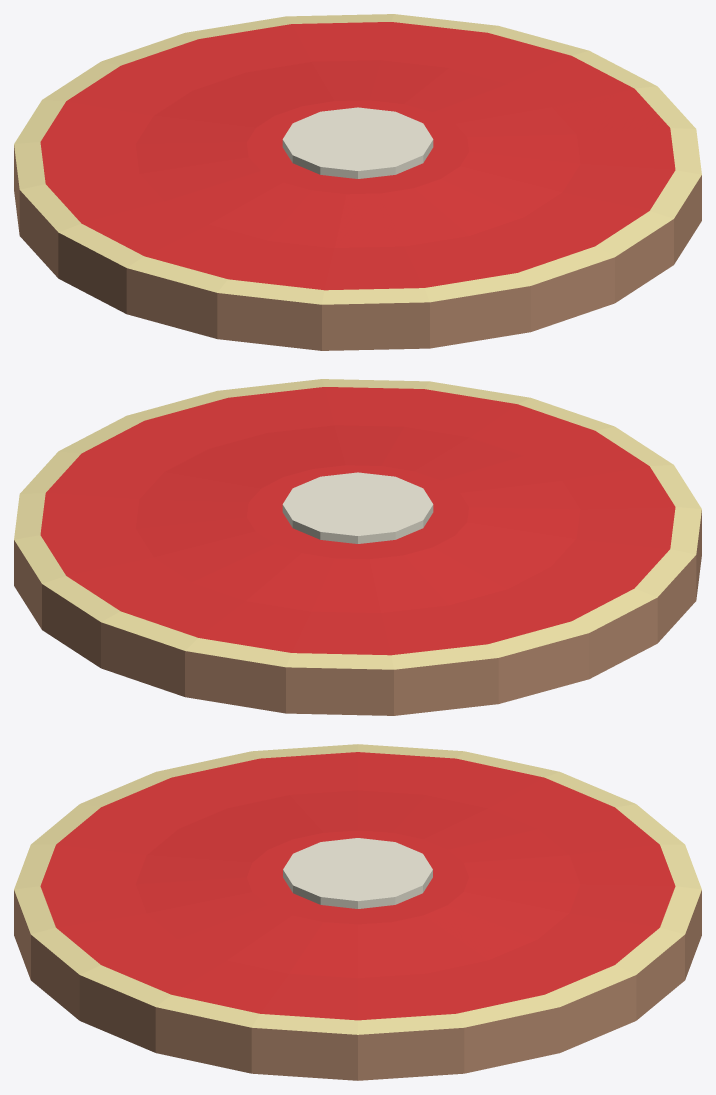
The model's file is cap_hip.glb.
3 renders of one model, top to bottom at view 1: azimuth 30°, elevation 25°; view 2: azimuth 150°, elevation 25°; view 3: azimuth 270°, elevation 25°, orthographic.
Visible parts, largest first — view 1: OUT; view 2: OUT; view 3: OUT.
Part boxes in pixels (x1,y1,x2,y2): OUT: [14, 14, 701, 350]; OUT: [14, 379, 701, 715]; OUT: [14, 744, 701, 1080].
Size of the model in its own units: 0.156 by 0.0165 by 0.156.
